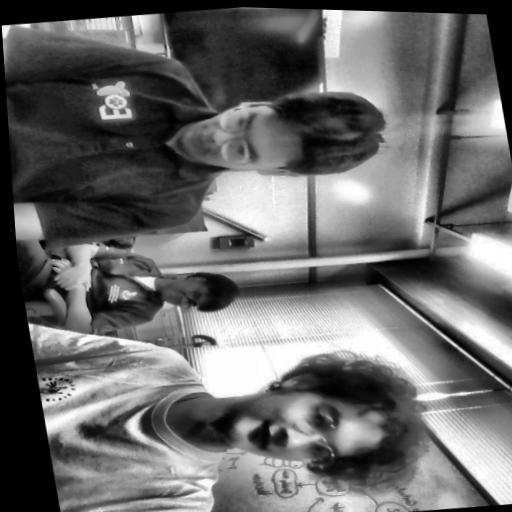Daifuku: (201, 334, 443, 502)
Not Daifuku: (183, 84, 411, 193), (149, 261, 242, 314)
